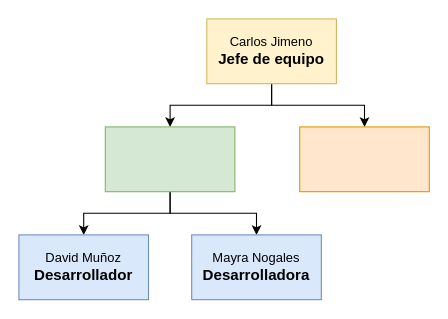
Some shapes in this 448 by 319 pixel diagram are drawn without their labels. The shapes that lost their labels are listed below. From the top down, each one's centre as x and y in pixels, then its label:
At point 169,159: "Íñigo Varela Arquitecto".
At point 364,159: "Miguel Sagaseta de I. Secretario".
